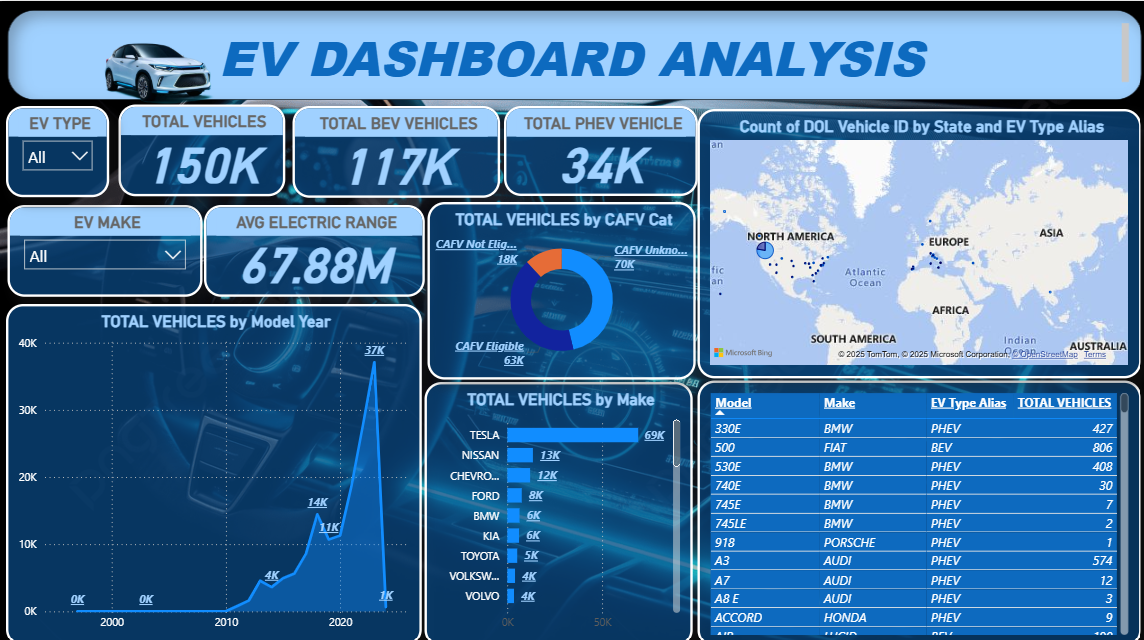

This screenshot's page, from the dashboard's own definition file:
{"tool":"powerbi","page":{"name":"EV DASHBOARD","canvas":[1280,720],"ordinal":0},"visuals":[{"type":"slicer","title":"EV MAKE","fields":{"Values":["EV.Make"]},"box":[8.3,226.7,216.7,101.7],"z":0},{"type":"card","title":"TOTAL VEHICLES","fields":{"Values":["MEASURE.TOTAL VEHICLES"]},"box":[132.3,115.3,185.2,102],"z":1000},{"type":"card","title":"TOTAL BEV VEHICLES","fields":{"Values":["MEASURE.TOTAL BEV VEHICLE"]},"box":[325,117.2,230.6,102],"z":2000},{"type":"card","title":"TOTAL PHEV VEHICLE","fields":{"Values":["MEASURE.TOTAL PHEV VEHICLE"]},"box":[559.4,117.2,215.4,100.2],"z":3000},{"type":"card","title":"AVG ELECTRIC RANGE","fields":{"Values":["MEASURE.AVG ELE RANGE"]},"box":[226.7,226.7,245,101.7],"z":4000},{"type":"textbox","box":[7.5,10,1261.2,100],"z":5000},{"type":"image","box":[91.1,0,169.7,161],"z":6000},{"type":"slicer","title":"EV TYPE","fields":{"Values":["EV.EV Type Alias"]},"box":[7.5,117.3,114.8,101.1],"z":7000},{"type":"areaChart","fields":{"Y":["MEASURE.TOTAL VEHICLES"],"Category":["EV.Model Year"]},"box":[7.5,336.9,461.7,380.6],"z":8000},{"type":"clusteredBarChart","fields":{"Y":["MEASURE.TOTAL VEHICLES"],"Category":["EV.Make"]},"box":[472.4,423.3,298.2,294.5],"z":9000},{"type":"donutChart","fields":{"Y":["MEASURE.TOTAL VEHICLES"],"Category":["EV.CAFV Cat"]},"box":[475.4,223.4,298.2,197.2],"z":10000},{"type":"tableEx","fields":{"Values":["EV.Model","EV.Make","EV.EV Type Alias","MEASURE.TOTAL VEHICLES"]},"box":[775.5,420.9,493.3,296.9],"z":11000},{"type":"map","fields":{"Category":["EV.State"],"Size":["CountNonNull(EV.DOL Vehicle ID)"],"Series":["EV.EV Type Alias"]},"box":[775.5,120.2,493.3,299.4],"z":12000}]}

Visuals, with their boxes in screenshot pixels (x1, y1, x2, y2), scaled from the page's 1280x720 canvas onto the 1144x640 screenshot:
"EV MAKE" slicer: detection(7, 202, 201, 292)
"TOTAL VEHICLES" card: detection(118, 102, 284, 193)
"TOTAL BEV VEHICLES" card: detection(290, 104, 497, 195)
"TOTAL PHEV VEHICLE" card: detection(500, 104, 692, 193)
"AVG ELECTRIC RANGE" card: detection(203, 202, 422, 292)
textbox: detection(7, 9, 1134, 98)
image: detection(81, 0, 233, 143)
"EV TYPE" slicer: detection(7, 104, 109, 194)
areaChart - MEASURE.TOTAL VEHICLES x EV.Model Year: detection(7, 299, 419, 638)
clusteredBarChart - MEASURE.TOTAL VEHICLES x EV.Make: detection(422, 376, 689, 638)
donutChart - MEASURE.TOTAL VEHICLES x EV.CAFV Cat: detection(425, 199, 691, 374)
tableEx - EV.Model x EV.Make: detection(693, 374, 1134, 638)
map - EV.State x CountNonNull(EV.DOL Vehicle ID): detection(693, 107, 1134, 373)
